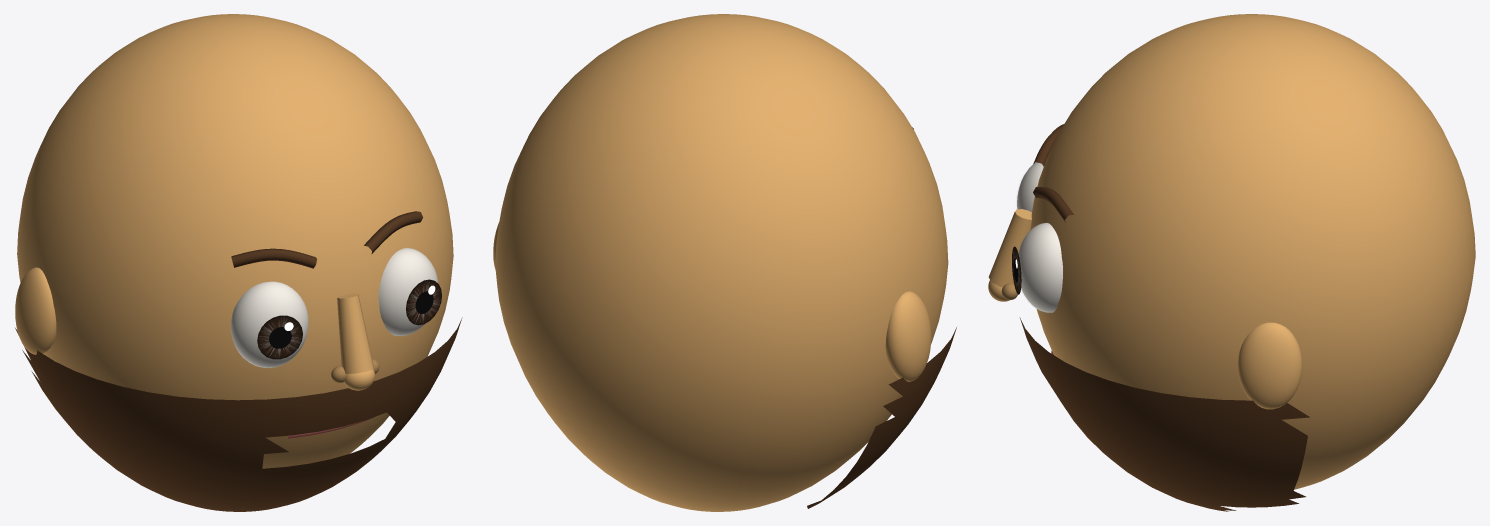
File: 04-courte.glb
The picture shows the model from 3 angles, left to right: view 1: azimuth 30°, elevation 25°; view 2: azimuth 150°, elevation 25°; view 3: azimuth 270°, elevation 25°; orthographic projection. The views are drawn at different scales.
Size of the model in its own units: 0.3087 by 0.3322 by 0.3166.
10 materials, 1 textured.
